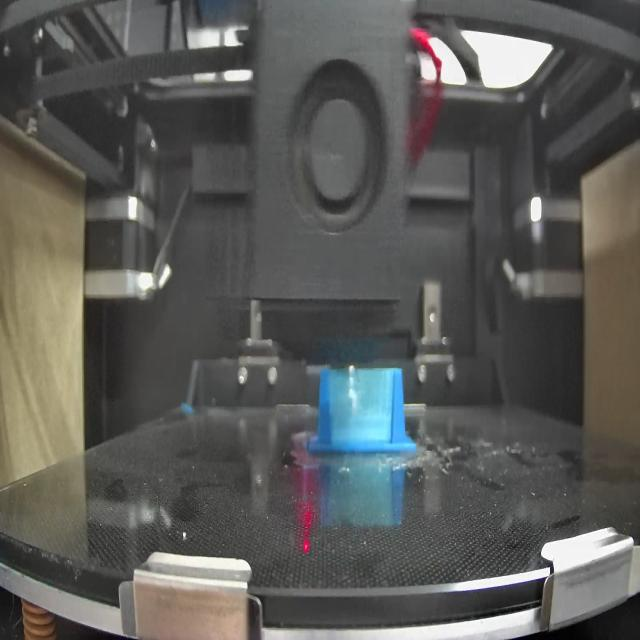stringing: (333, 368, 392, 446)
